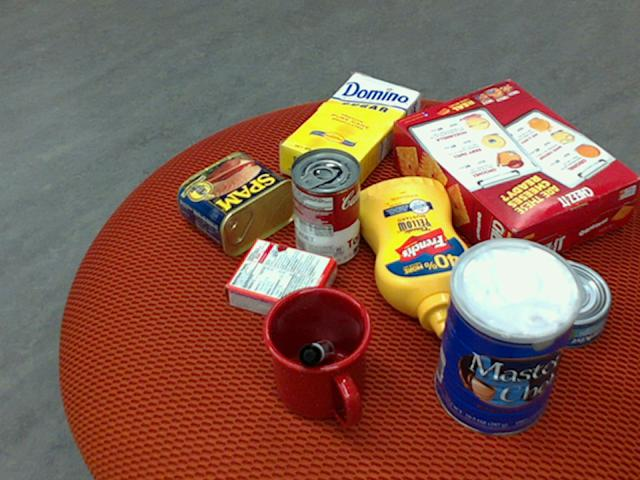cracker_box: (391, 78, 639, 274)
gelatin_box: (220, 237, 332, 330)
large_marker: (296, 340, 332, 368)
master_chef_can: (432, 240, 582, 437)
mug: (258, 286, 369, 427)
mustard_bottle: (354, 176, 473, 340)
potted_meat_can: (175, 150, 298, 255)
sugar_box: (277, 71, 419, 195)
tomato_soup_can: (289, 145, 360, 265)
tuna_fish_can: (514, 258, 610, 348)
